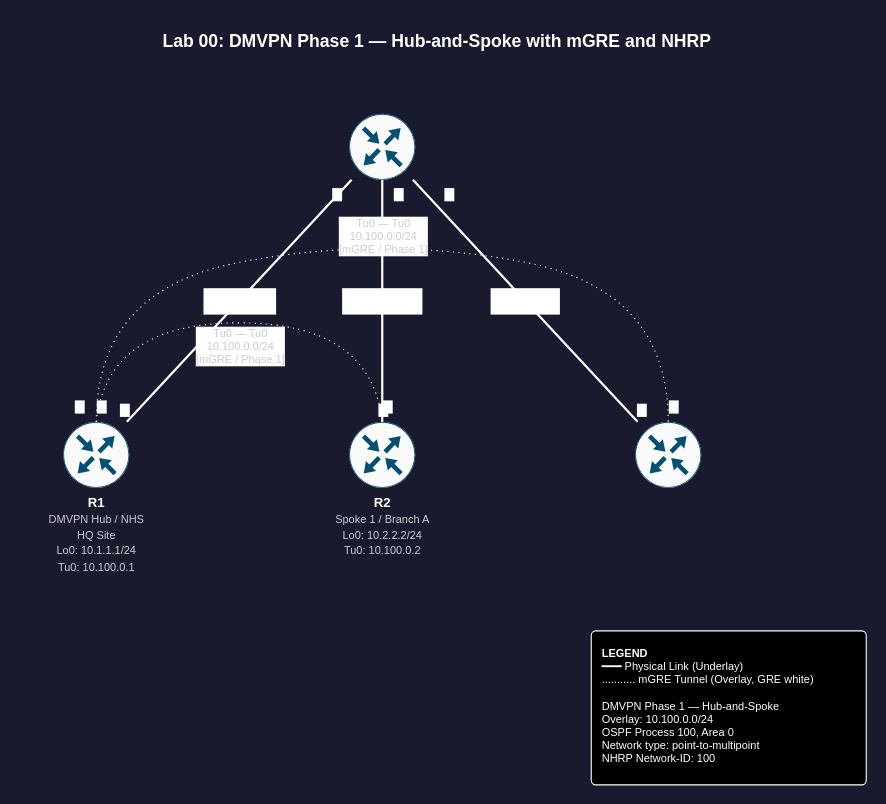
This 886x804 diagram has some shape labels left out. The shapes that lost their labels are listed below. From the top down, each one's centre as x and y in pixels, then its label:
At (381,146): "R4 Simulated ISP/Transit Lo0: 4.4.4.4/32".
At (667,454): "R3 Spoke 2 / Branch B Lo0: 10.3.3.3/24 Tu0: 10.100.0.3".
